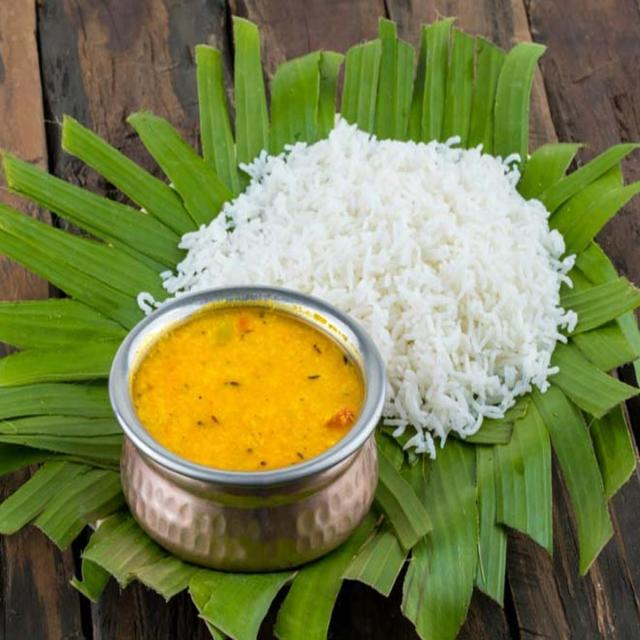dal: (137, 308, 363, 471)
rice: (150, 107, 578, 459)
